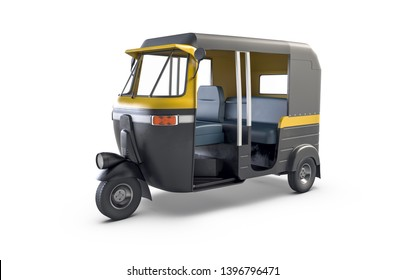threewheel: (93, 32, 322, 221)
